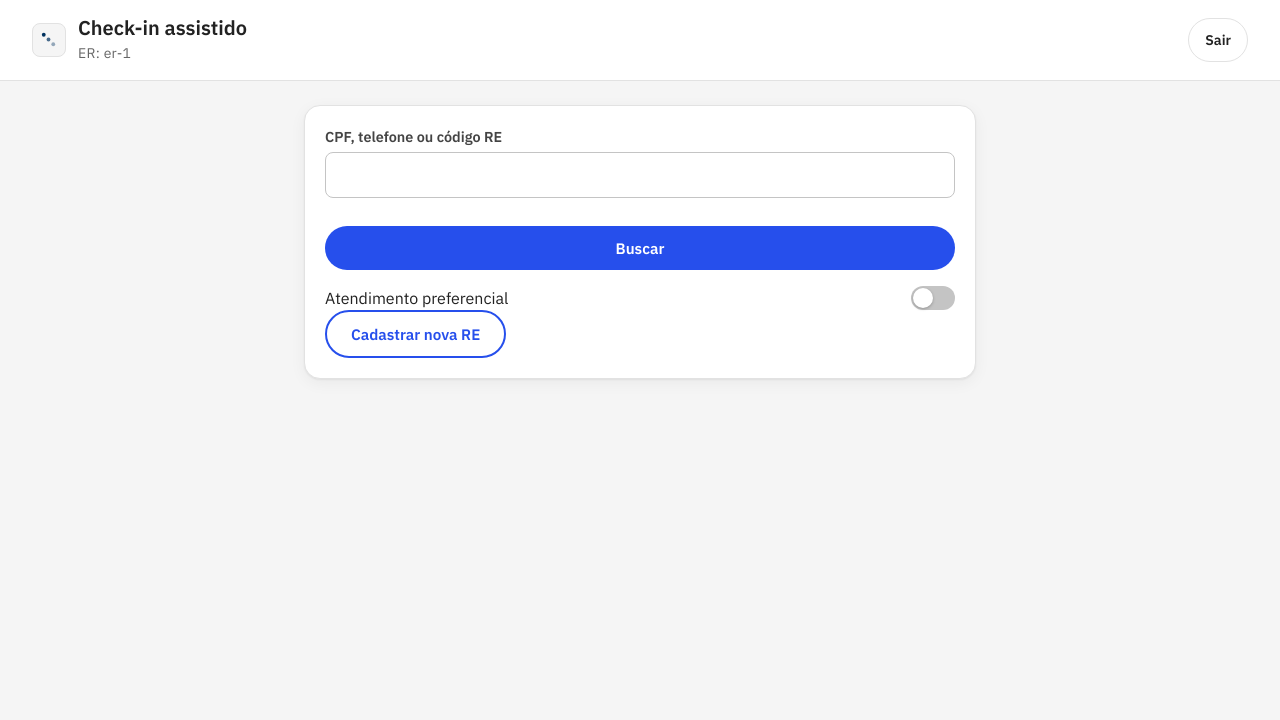
it: CheckinAttendantPage › surfaces an error when creating the ticket fails
The image size is (1280, 720).
Type "ana" into the field labelled "CPF, telefone ou código RE" at (640, 175), box [325, 152, 955, 198]
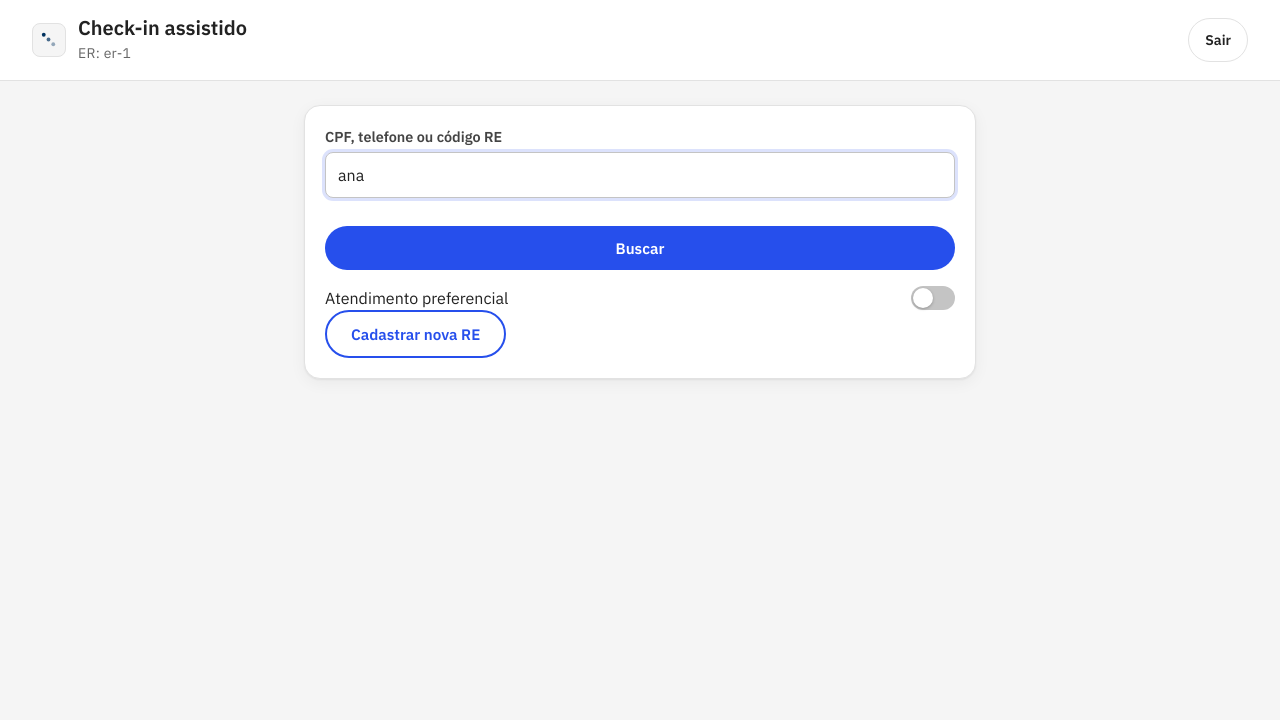
Click the button "Buscar" at (640, 248), box [325, 226, 955, 270]
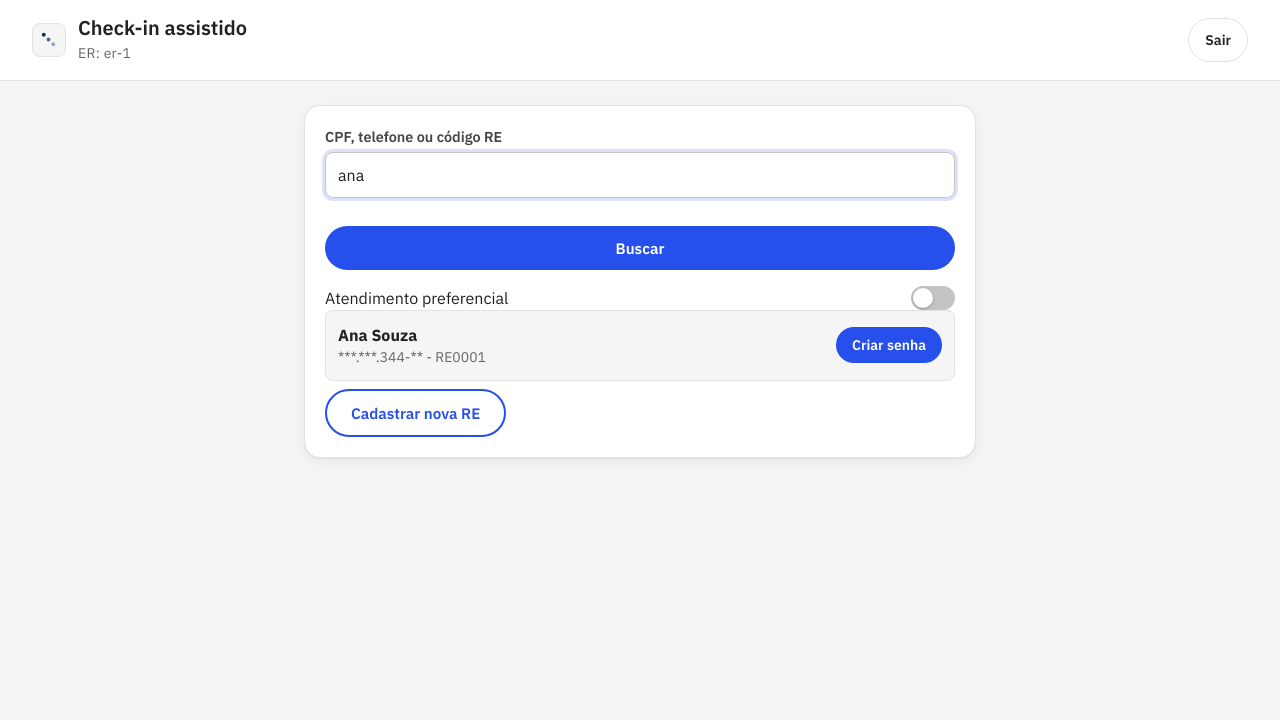
Click the button "Criar senha" at (889, 345), box [836, 327, 942, 363]
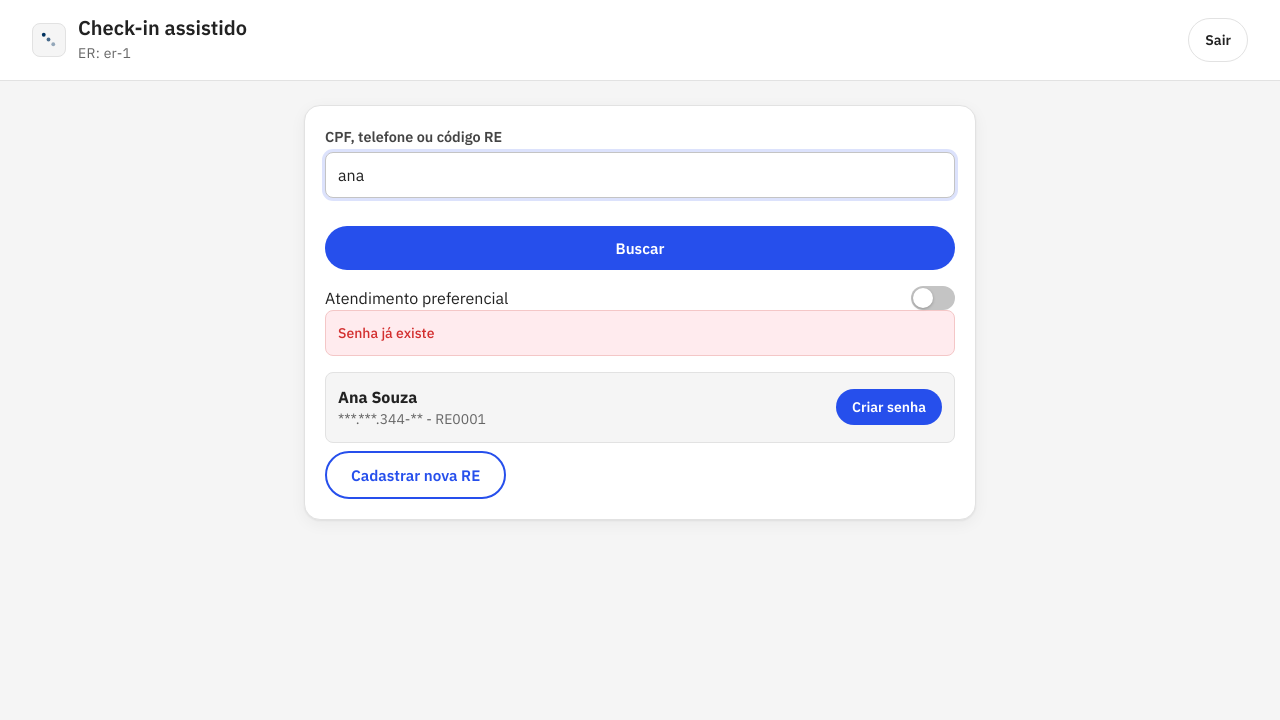
Expected: the text "Senha já existe" is shown, [325, 310, 955, 356]
